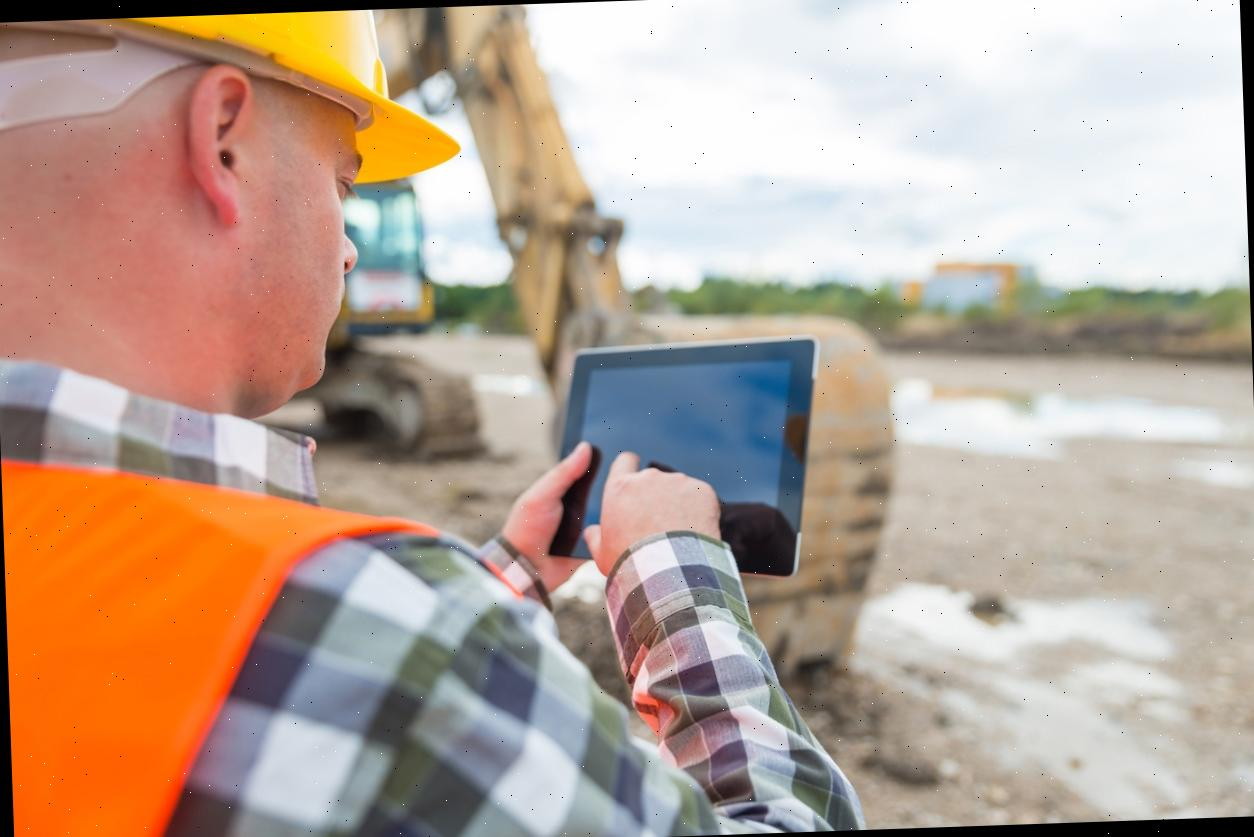helmet: (0, 5, 471, 198)
wear: (2, 484, 554, 837)
